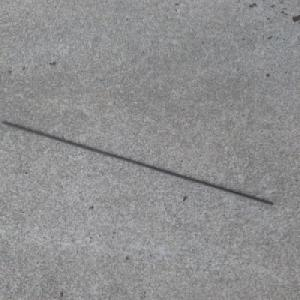LuggagePart: (0, 120, 274, 205)
